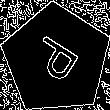P_SE: (26, 30, 87, 89)
